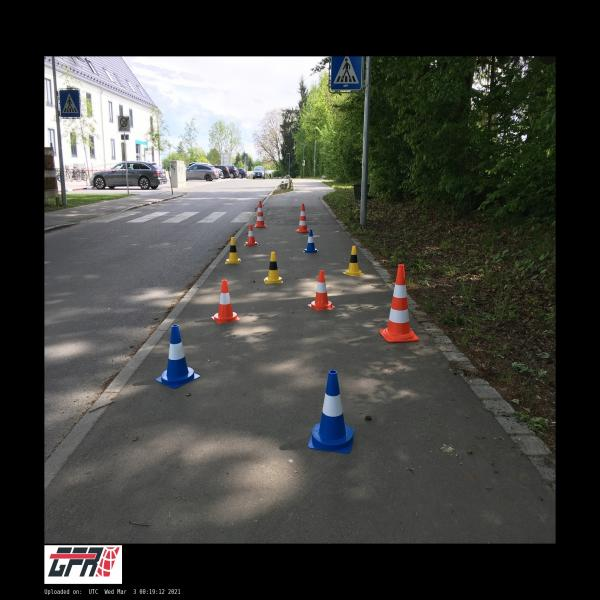blue_cone: (308, 369, 354, 454), (155, 324, 200, 388), (302, 229, 318, 253)
large_orange_cone: (380, 264, 418, 342), (296, 203, 310, 233), (254, 200, 266, 228)
orange_cone: (211, 280, 240, 324), (308, 269, 335, 311), (244, 224, 258, 246)
yellow_cone: (343, 245, 364, 276), (264, 252, 283, 284), (225, 237, 242, 264)
